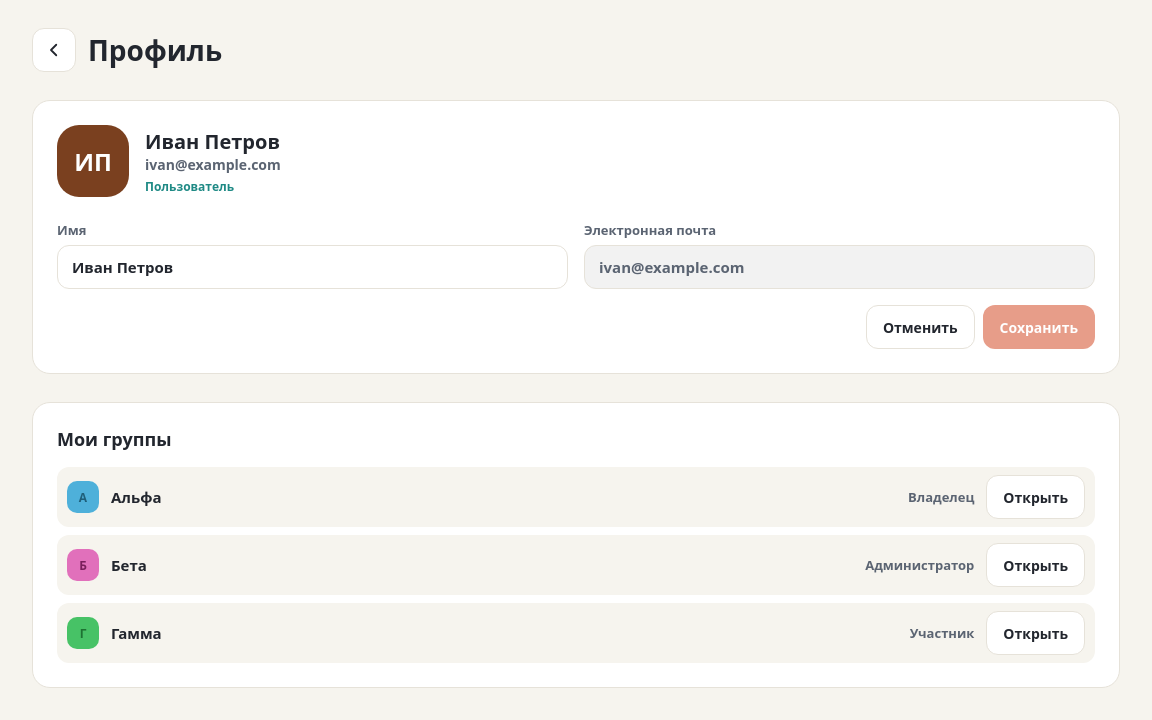
Scenario: ProfilePage › сохранение вызывает updateName
This screenshot has width=1152, height=720.
Expected: the button "Сохранить" is disabled, [983,305,1095,349]
Step 1. Replace the text in the field labelled "Имя" with "Новое имя" → (312, 267), box [57,245,568,289]
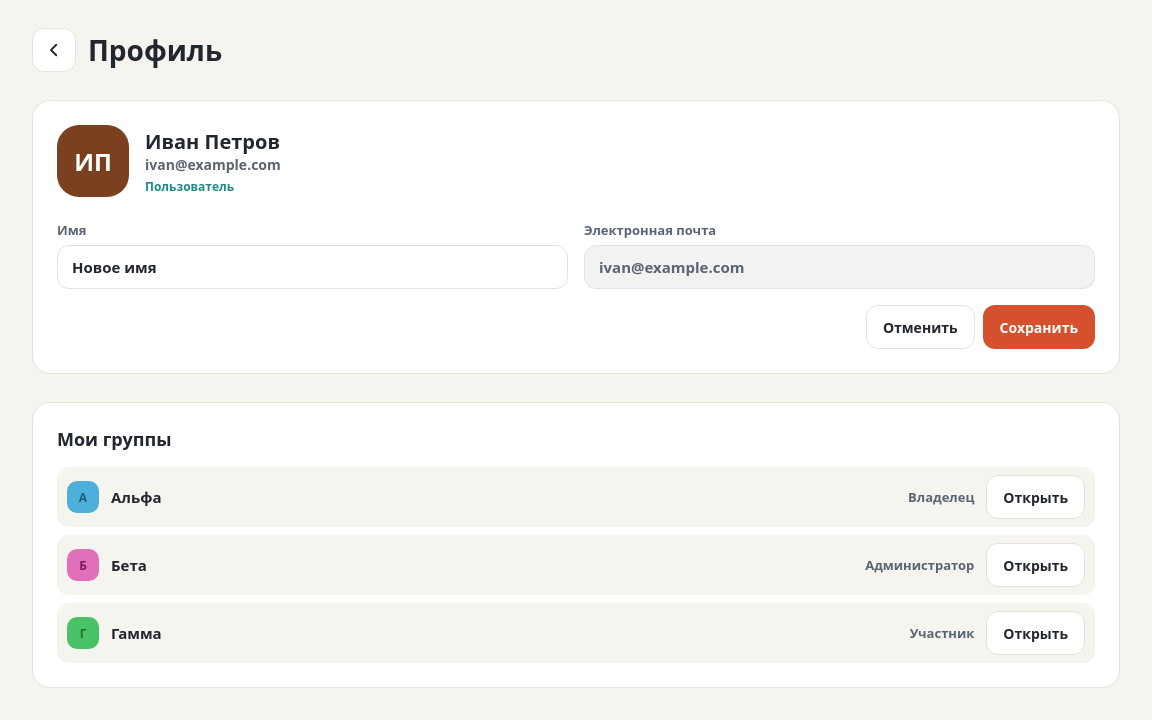
Expected: the button "Сохранить" is enabled
Step 2. Click the button "Сохранить" → (1039, 327), box [983,305,1095,349]
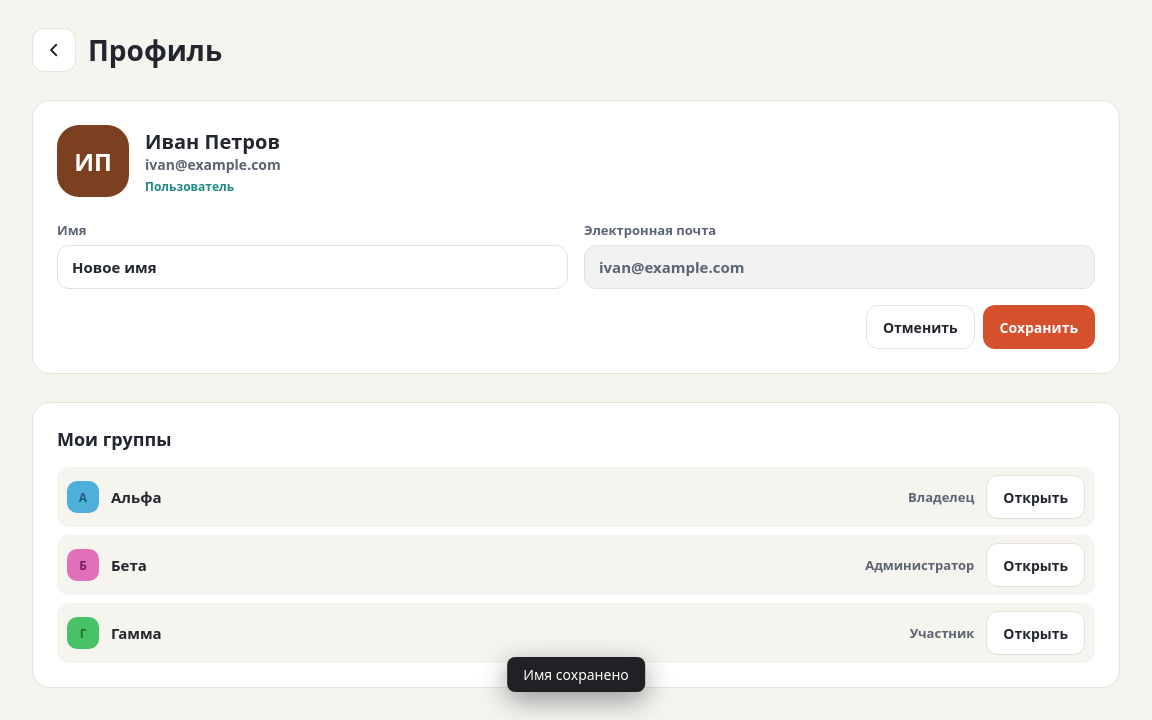
Expected: the text "Имя сохранено" is shown, [507,657,645,692]
